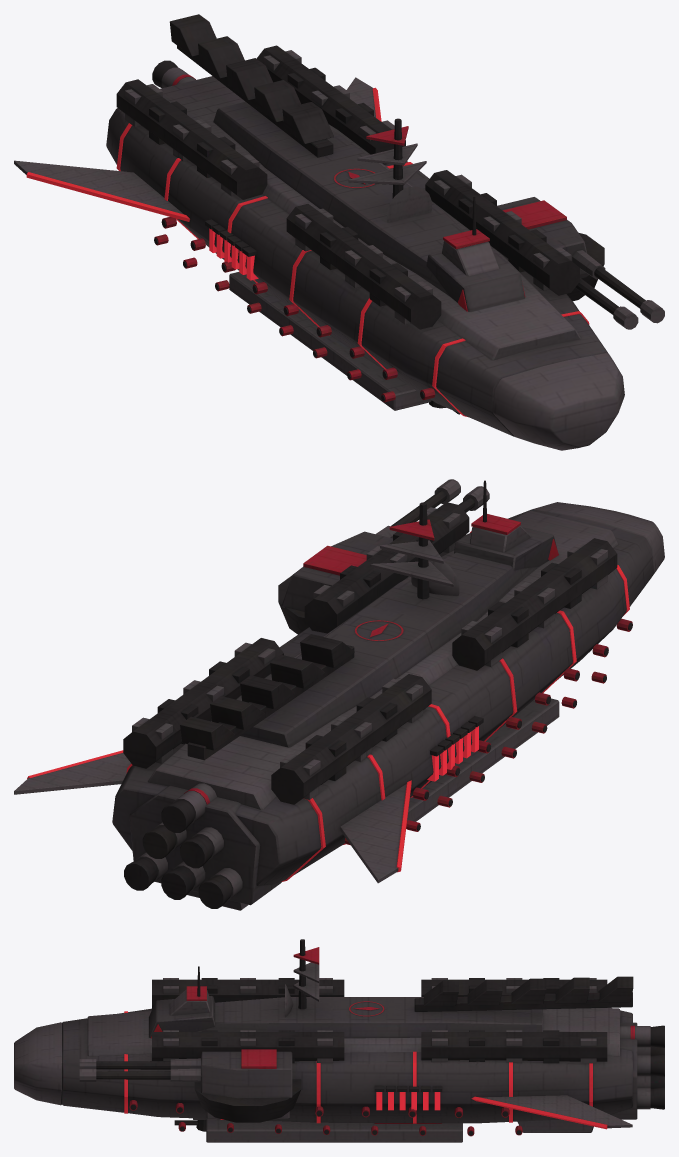
Rendered from vorrakai_carrier.glb.
3 renders of one model, top to bottom at view 1: azimuth 30°, elevation 25°; view 2: azimuth 150°, elevation 25°; view 3: azimuth 270°, elevation 25°, orthographic. The views are drawn at different scales.
Visible parts, largest first — view 1: HULL, SYS_BUS_F, SYS_BUS_A, SYS_WPN1, SYS_BRIDGE, SYS_HANGAR, SYS_SENSORS, SYS_REACTOR, SYS_DRIVE; view 2: HULL, SYS_BUS_A, SYS_BUS_F, SYS_DRIVE, SYS_WPN1, SYS_BRIDGE, SYS_HANGAR, SYS_SENSORS, SYS_REACTOR; view 3: HULL, SYS_WPN1, SYS_BUS_F, SYS_BUS_A, SYS_HANGAR, SYS_DRIVE, SYS_BRIDGE, SYS_SENSORS, SYS_REACTOR, SYS_JUMP.
Boxes of the visible parts, bbox=[...] form: HULL: bbox=[14, 14, 624, 450]; SYS_BUS_F: bbox=[286, 170, 579, 329]; SYS_BUS_A: bbox=[116, 45, 405, 199]; SYS_WPN1: bbox=[497, 197, 664, 329]; SYS_BRIDGE: bbox=[426, 196, 525, 311]; SYS_HANGAR: bbox=[229, 272, 431, 410]; SYS_SENSORS: bbox=[348, 118, 431, 222]; SYS_REACTOR: bbox=[205, 219, 258, 280]; SYS_DRIVE: bbox=[152, 60, 195, 88]; HULL: bbox=[14, 502, 664, 897]; SYS_BUS_A: bbox=[123, 638, 431, 804]; SYS_BUS_F: bbox=[304, 502, 617, 670]; SYS_DRIVE: bbox=[124, 783, 281, 908]; SYS_WPN1: bbox=[278, 479, 489, 634]; SYS_BRIDGE: bbox=[454, 480, 558, 570]; SYS_HANGAR: bbox=[407, 698, 559, 821]; SYS_SENSORS: bbox=[370, 502, 459, 599]; SYS_REACTOR: bbox=[427, 716, 483, 781]; HULL: bbox=[14, 976, 633, 1136]; SYS_WPN1: bbox=[79, 1049, 301, 1122]; SYS_BUS_F: bbox=[152, 978, 344, 1063]; SYS_BUS_A: bbox=[421, 978, 607, 1063]; SYS_HANGAR: bbox=[206, 1118, 462, 1142]; SYS_DRIVE: bbox=[610, 1022, 664, 1119]; SYS_BRIDGE: bbox=[149, 966, 214, 1038]; SYS_SENSORS: bbox=[285, 939, 319, 1017]; SYS_REACTOR: bbox=[374, 1085, 442, 1123]; SYS_JUMP: bbox=[517, 1119, 593, 1132].
Bounding box in the file's own units: 27.55 × 18.14 × 57.17.
Materials: 1 (1 with a texture image).
